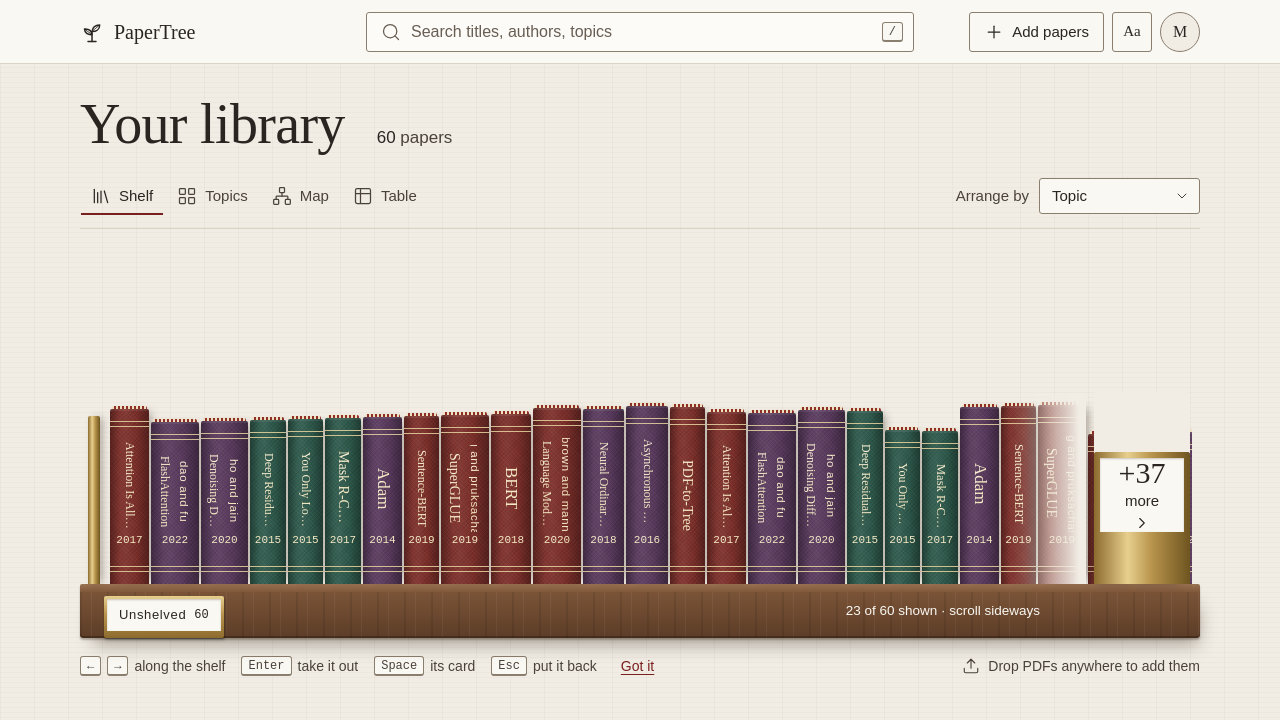
it: a library at scale (01f) › a search counts the matches inside the overflow, in the header and on the bookend
Type "atten" into the search field named "Search the library".
click(636, 32); type("atten")  # box top-left (411, 20), bottom-right (862, 44)
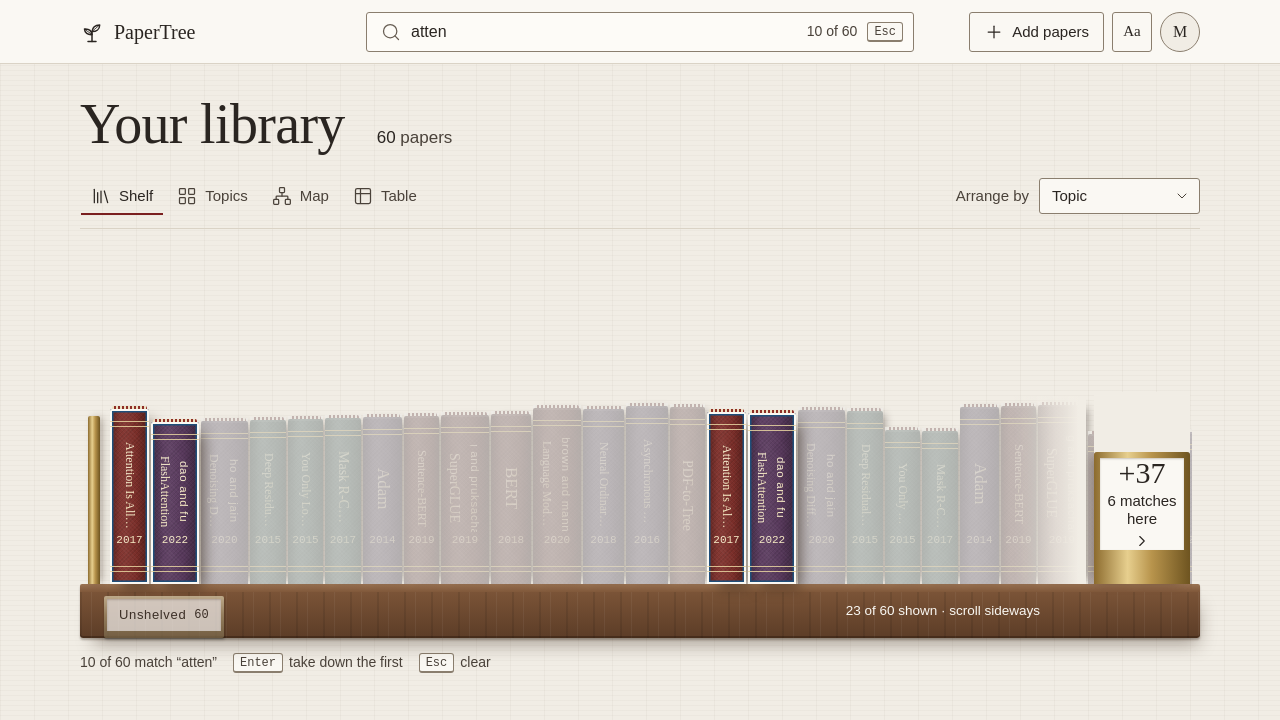
Expected: the text "10 of 60" is shown, top-left (807, 21), bottom-right (857, 42)
